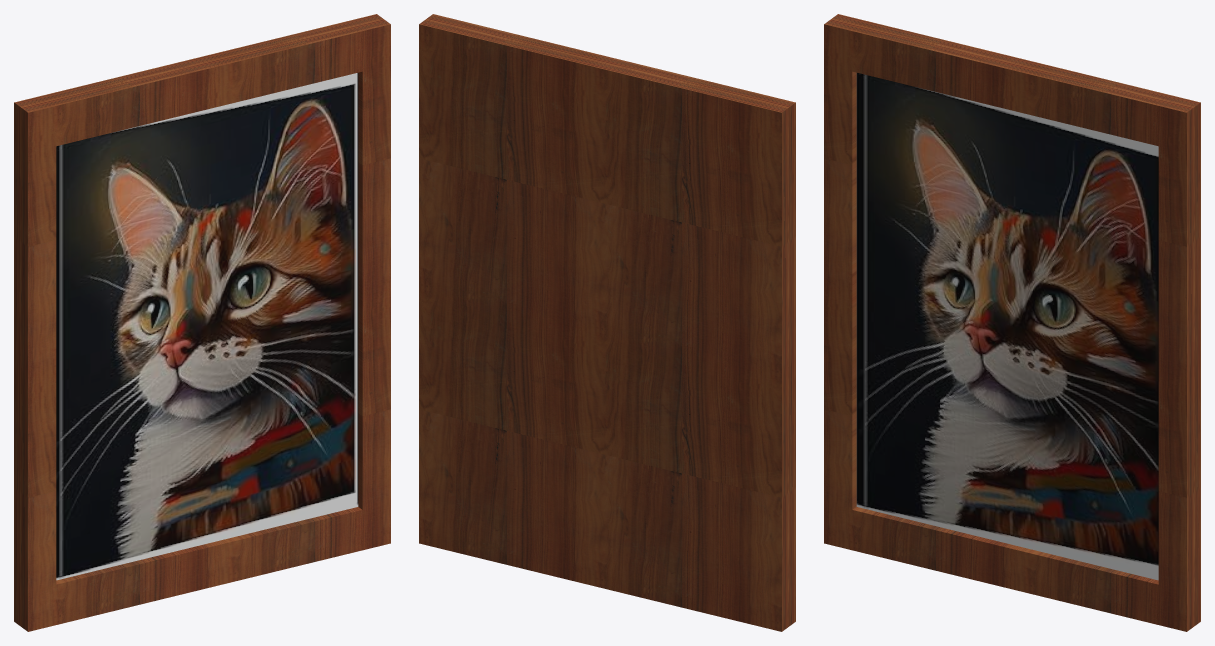
The model's file is painting 2.fbx.
3 renders of one model, left to right at view 1: azimuth 30°, elevation 25°; view 2: azimuth 150°, elevation 25°; view 3: azimuth 330°, elevation 25°, orthographic.
Visible parts, largest first — view 1: Cube.001; view 2: Cube.001; view 3: Cube.001.
Boxes of the visible parts, x1,y1,x2,y2 form: Cube.001: (14,14,390,631); Cube.001: (419,14,795,631); Cube.001: (824,14,1200,631).
Bounding box in the file's own units: 0.1951 × 0.2668 × 0.0131.
